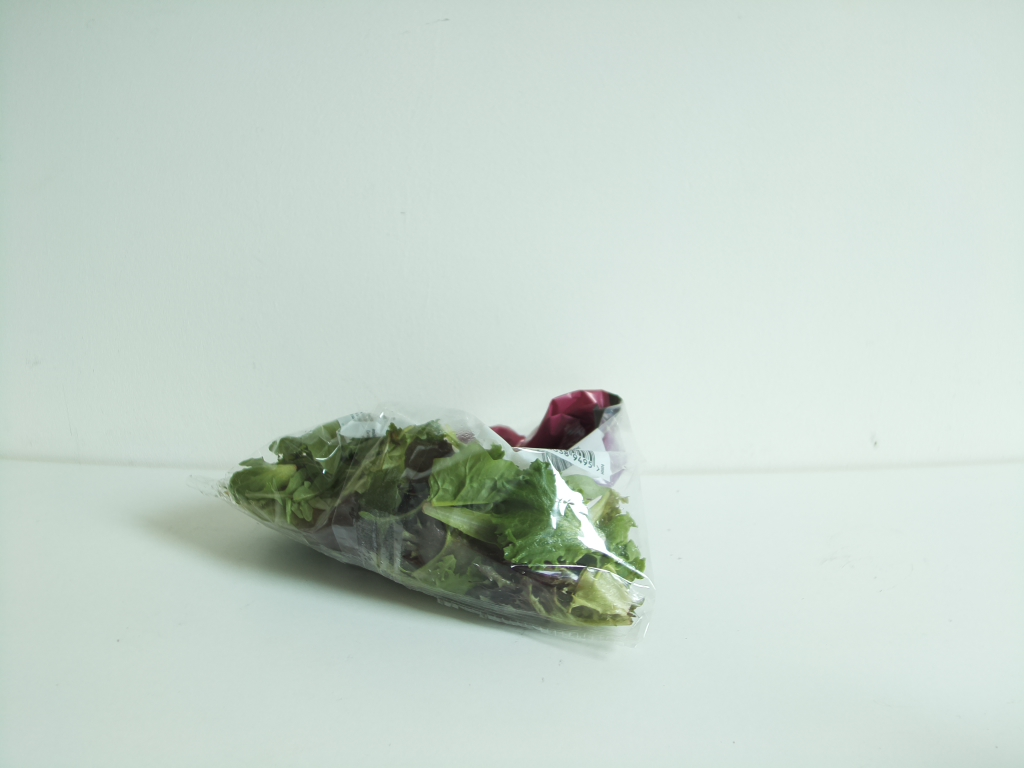salad: (208, 389, 645, 645)
